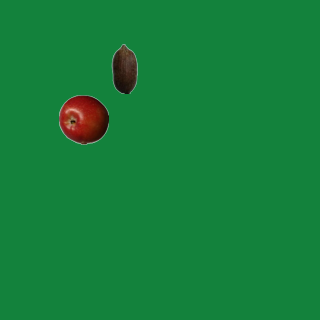Apple Braeburn: (58, 94, 108, 144)
Nut Pecan: (99, 43, 149, 93)
